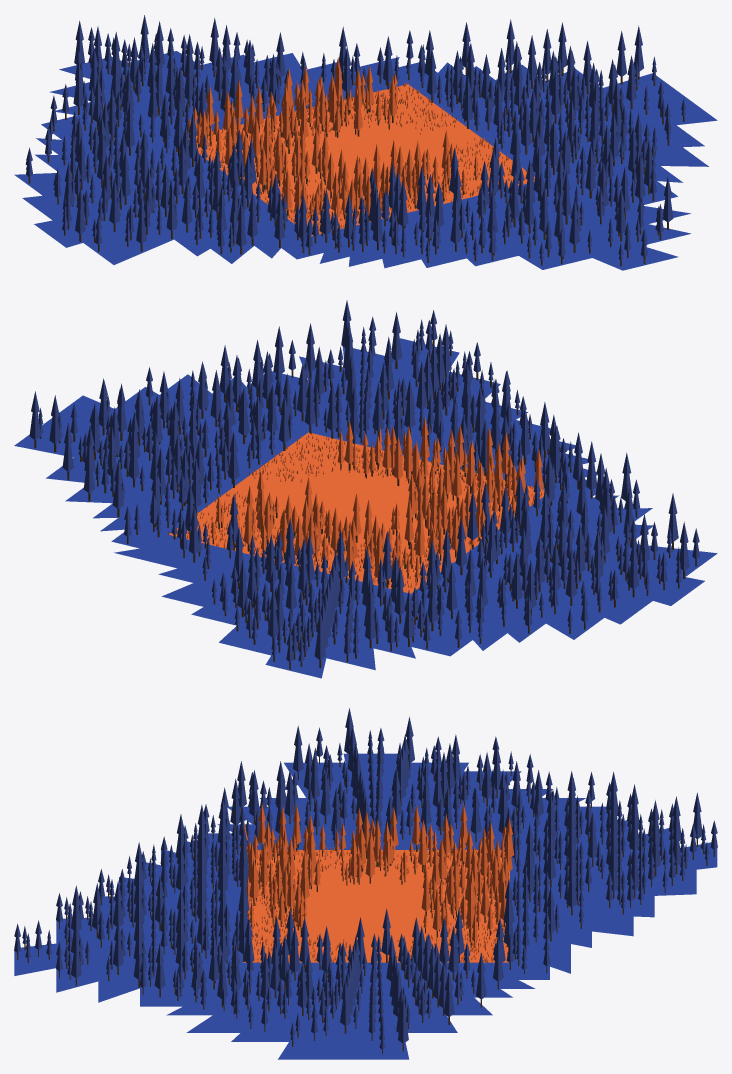
File: forest_abstract_TEST.glb
3 renders of one model, top to bottom at view 1: azimuth 30°, elevation 25°; view 2: azimuth 150°, elevation 25°; view 3: azimuth 270°, elevation 25°, orthographic. The views are drawn at different scales.
Parts seen in each view (by area): view 1: Plane.004, Plane.005; view 2: Plane.004, Plane.005; view 3: Plane.004, Plane.005.
Part boxes in pixels (x1,y1,x2,y2): Plane.004: (14,51,717,270); Plane.005: (188,84,534,236); Plane.004: (14,338,717,678); Plane.005: (169,432,544,593); Plane.004: (14,753,717,1059); Plane.005: (243,850,509,962).
Bounding box in the file's own units: 35.5 × 4.94 × 34.53.
